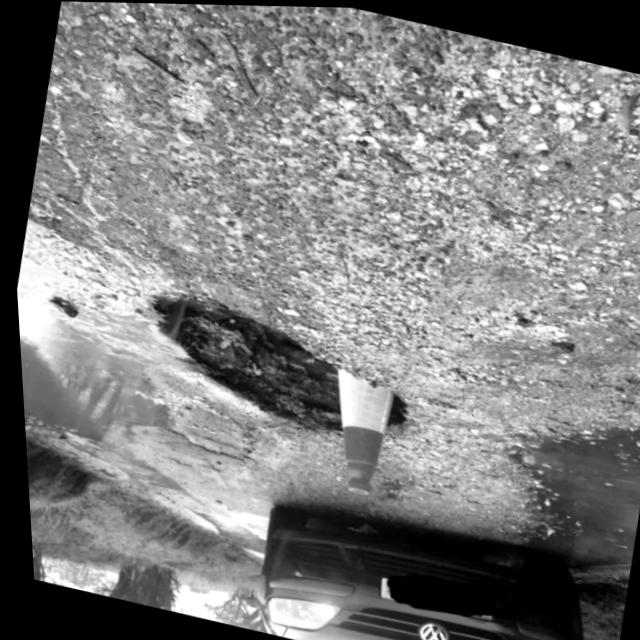pathole: (96, 220, 503, 481)
